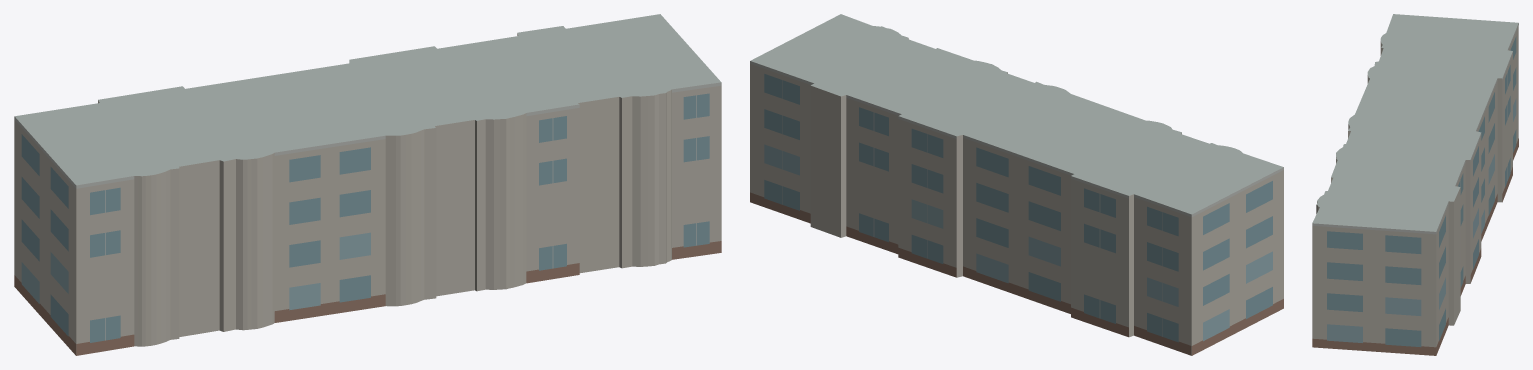
The model's file is survey-upis-32632258.glb.
3 renders of one model, left to right at view 1: azimuth 30°, elevation 25°; view 2: azimuth 150°, elevation 25°; view 3: azimuth 270°, elevation 25°, orthographic. The views are drawn at different scales.
Visible parts, largest first — view 1: survey-upis-32632258.tmp; view 2: survey-upis-32632258.tmp; view 3: survey-upis-32632258.tmp.
Part boxes in pixels (bbox=[...]): survey-upis-32632258.tmp: bbox=[14, 14, 721, 355]; survey-upis-32632258.tmp: bbox=[750, 14, 1283, 355]; survey-upis-32632258.tmp: bbox=[1312, 14, 1518, 355].
Bounding box in the file's own units: 46.74 × 12.4 × 18.73.
